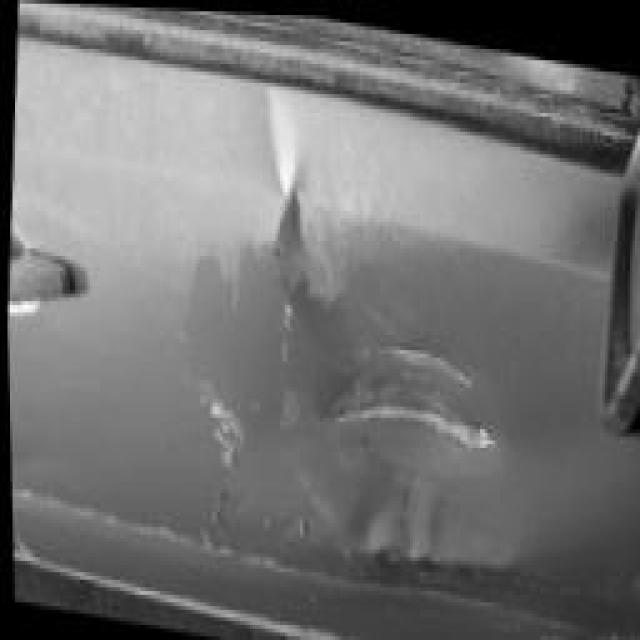Door: (70, 98, 608, 639)
